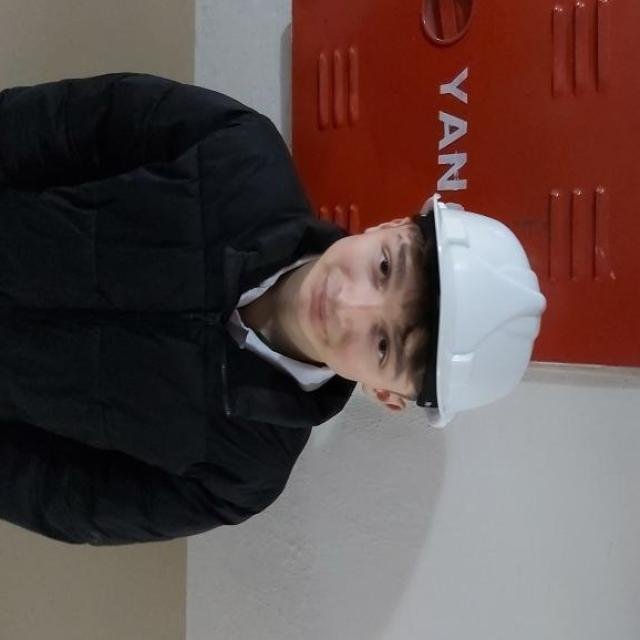helmet: (415, 196, 547, 428)
